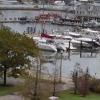Boat: (35, 29, 100, 58)
